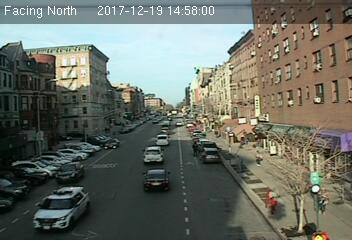car: (142, 168, 171, 190), (55, 162, 86, 182), (141, 145, 165, 163), (200, 147, 220, 161), (104, 138, 120, 150), (154, 134, 169, 146)
police: (32, 186, 90, 231)
